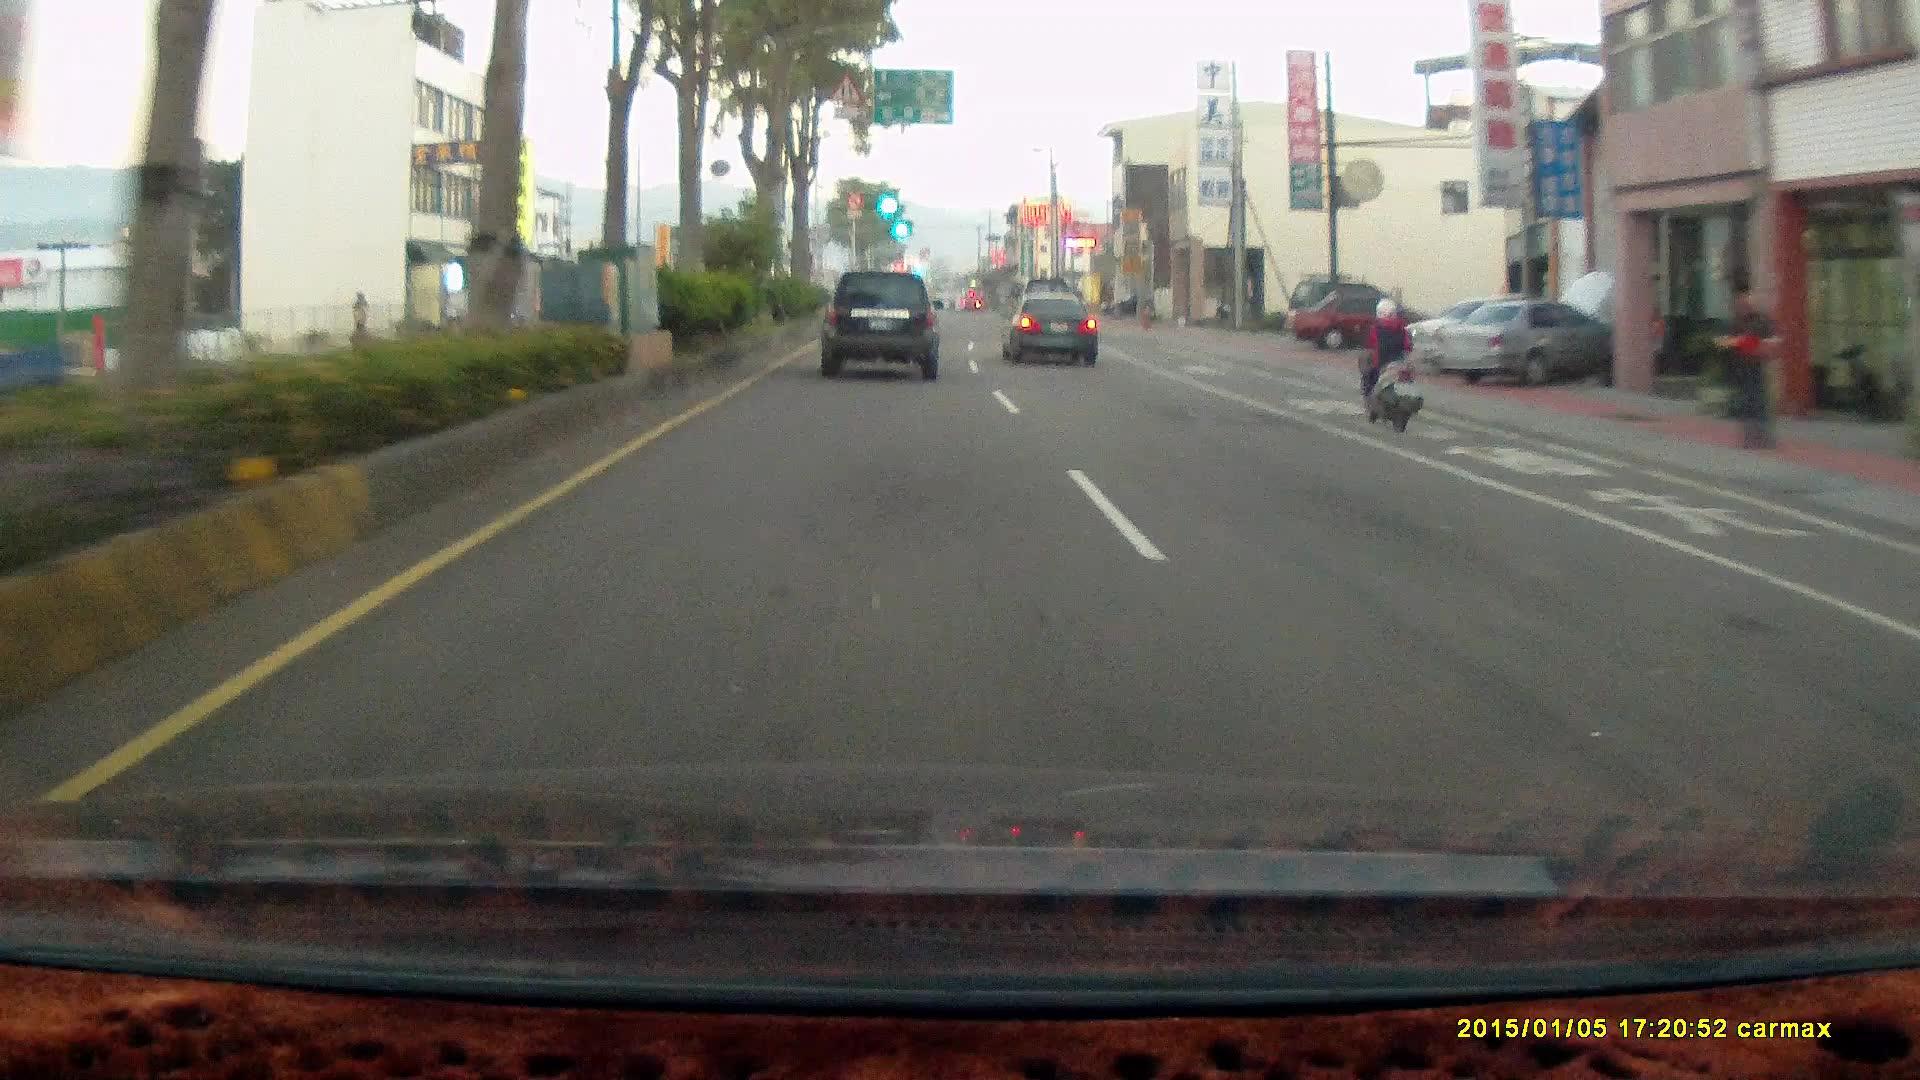pedestrian: (1716, 277, 1794, 454)
rider: (1343, 285, 1433, 443), (1352, 294, 1423, 430)
vehicle: (1436, 296, 1618, 387), (819, 272, 946, 384), (819, 269, 943, 377), (1, 293, 71, 433), (1288, 290, 1436, 356), (1288, 290, 1439, 351), (1001, 292, 1101, 366), (1000, 293, 1098, 365)
